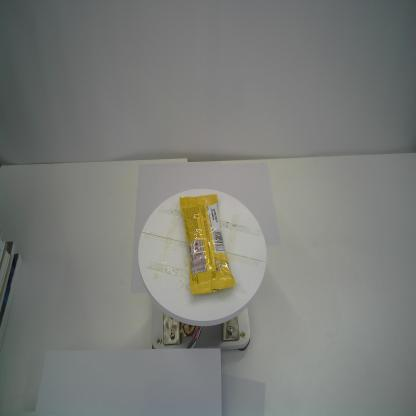Chocolate: (179, 193, 237, 296)
